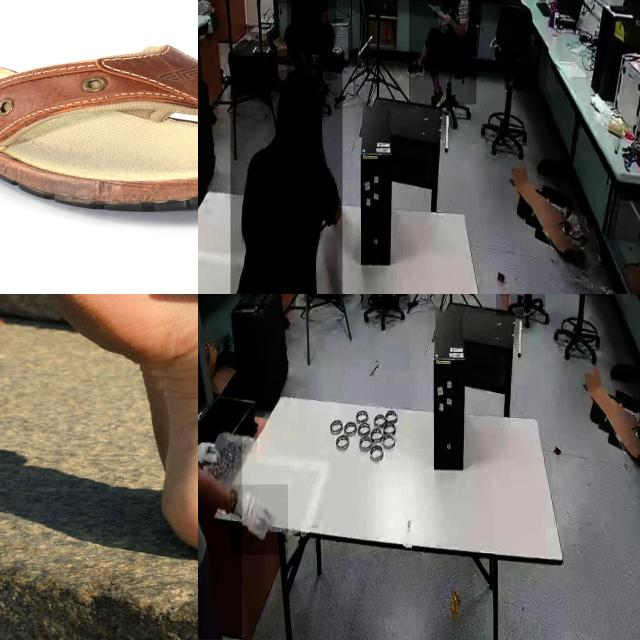Barefoots: (43, 294, 198, 556)
Sandals: (0, 43, 198, 214)
hand_glove: (230, 484, 288, 556)
hand_noglove: (439, 11, 451, 26)
head_nohelmet: (278, 70, 318, 98)
person: (230, 56, 343, 294), (198, 294, 242, 640), (409, 0, 477, 105), (287, 0, 337, 80)
shoes: (404, 58, 426, 82), (429, 84, 446, 112), (518, 294, 536, 318), (367, 294, 385, 303), (385, 294, 403, 300)
